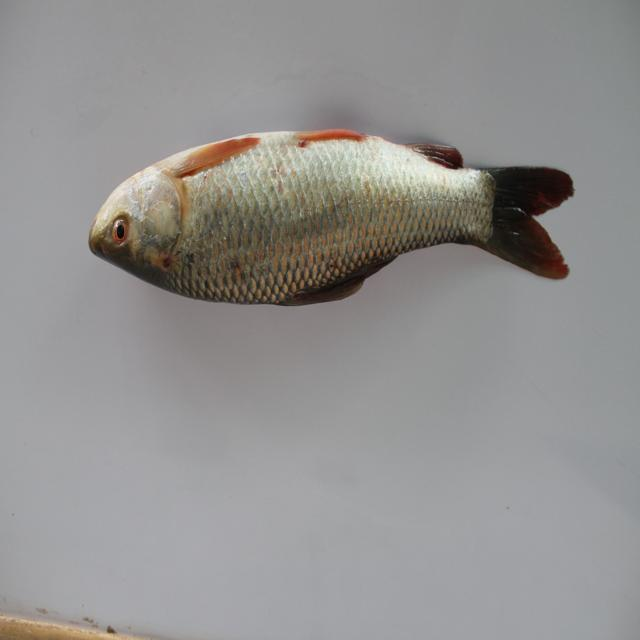Rohu: (83, 126, 579, 319)
